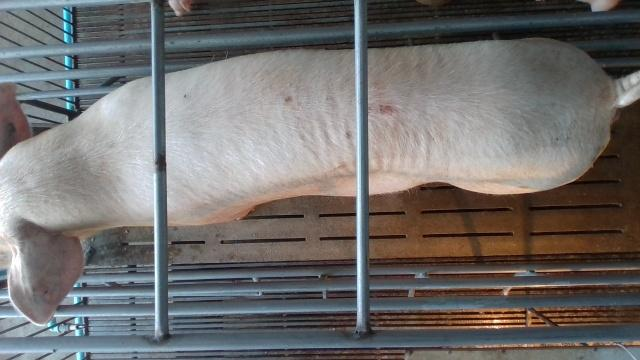sow-stand-feed: (0, 38, 640, 327)
